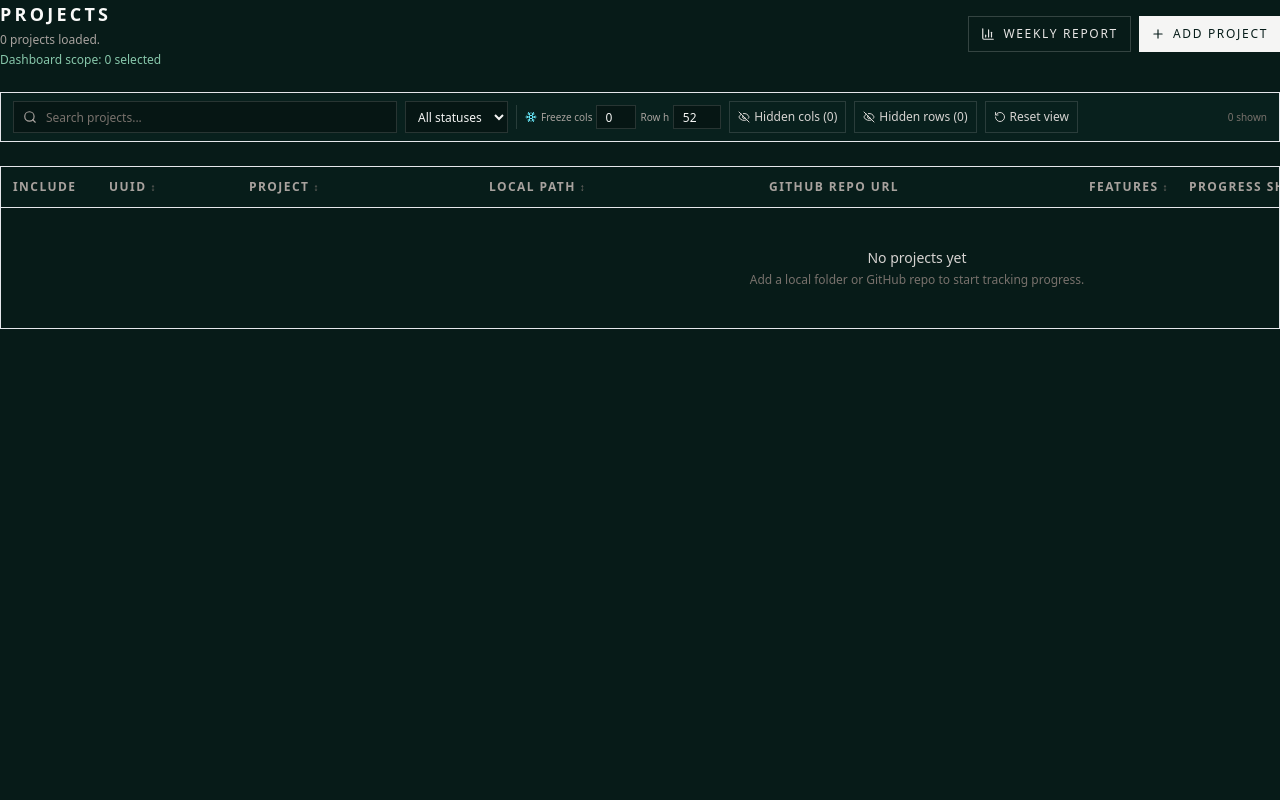
Test case: Add Project modal — Finder folder picker › imports folders even when every chosen path lacks a config file
Click the button "Add Project": (1209, 34) [1139,16,1279,52]
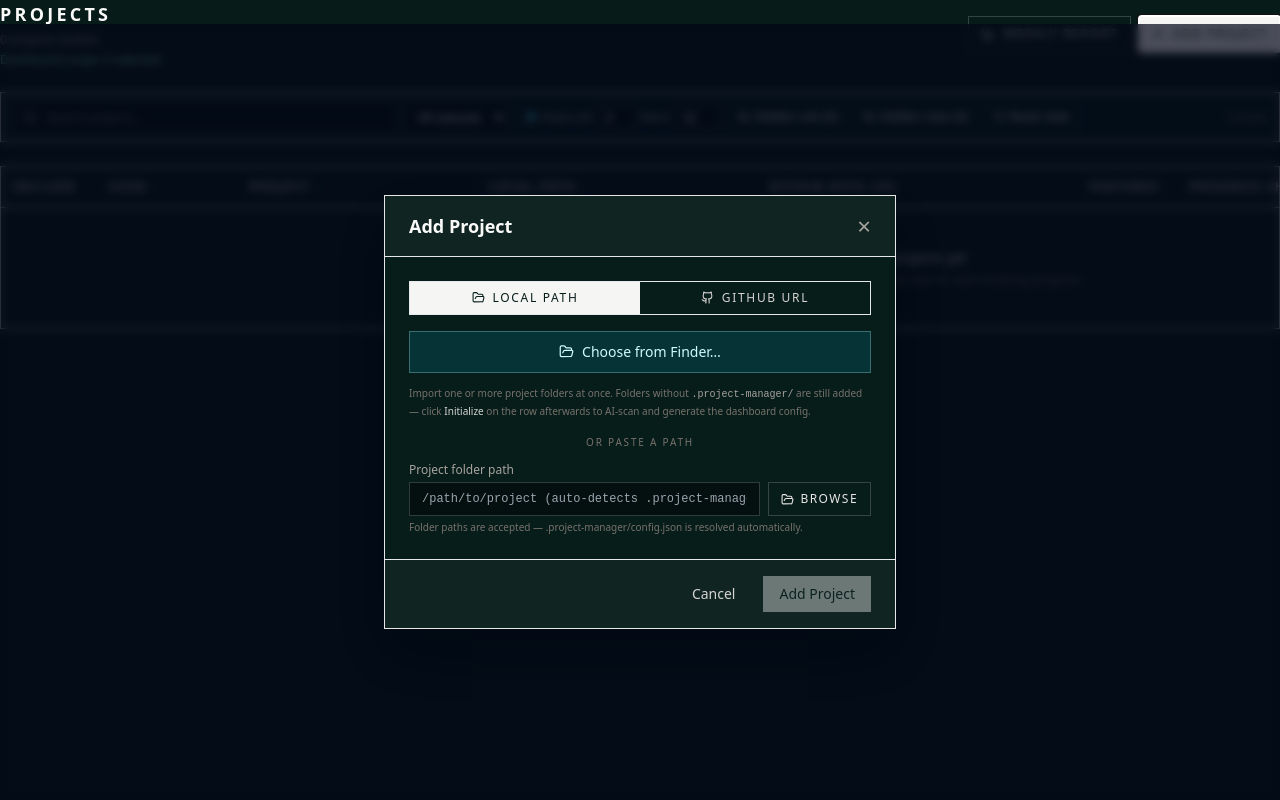
Click the button "Choose from Finder…": (640, 352) [409,331,871,373]
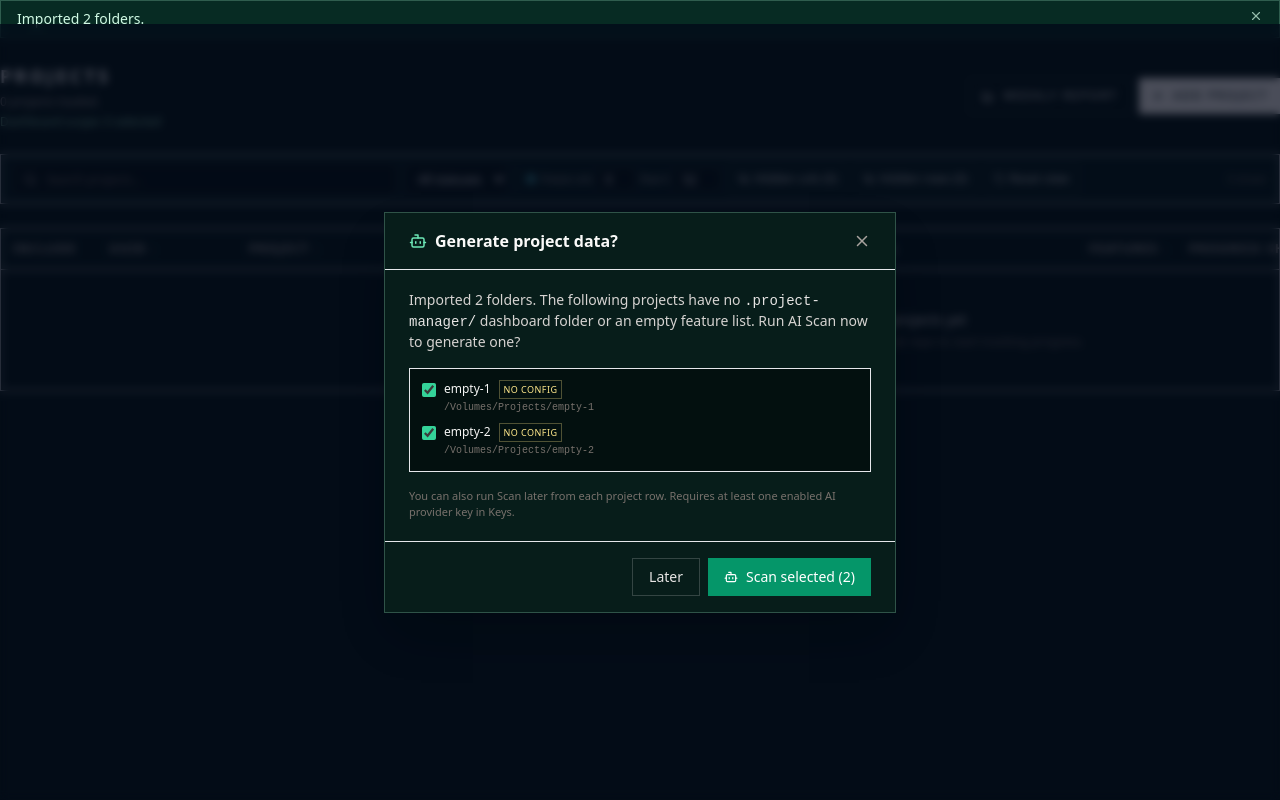
expect the heading "Generate project data?" is shown: met, box [435,228,618,252]
